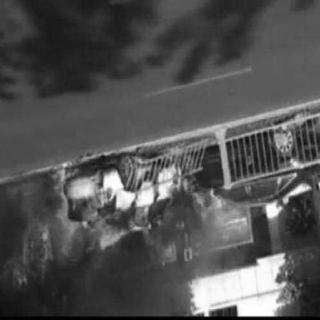Fire: (5, 144, 228, 297)
